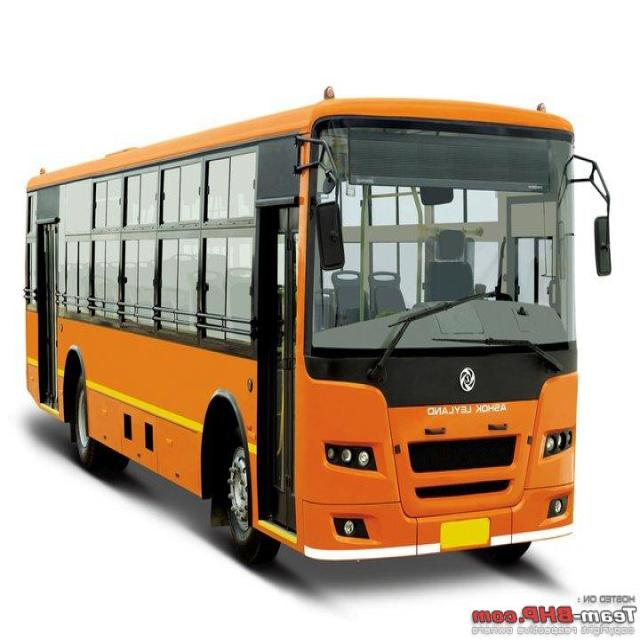bus: (21, 89, 611, 565)
